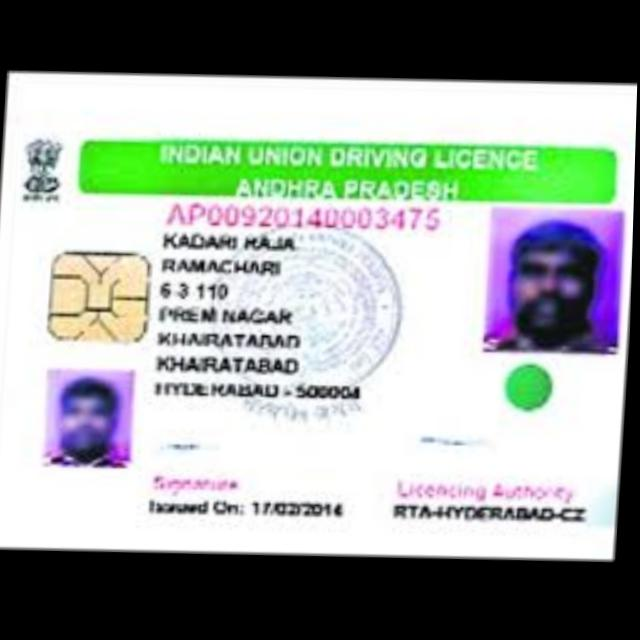driving_licence: (0, 114, 637, 555)
